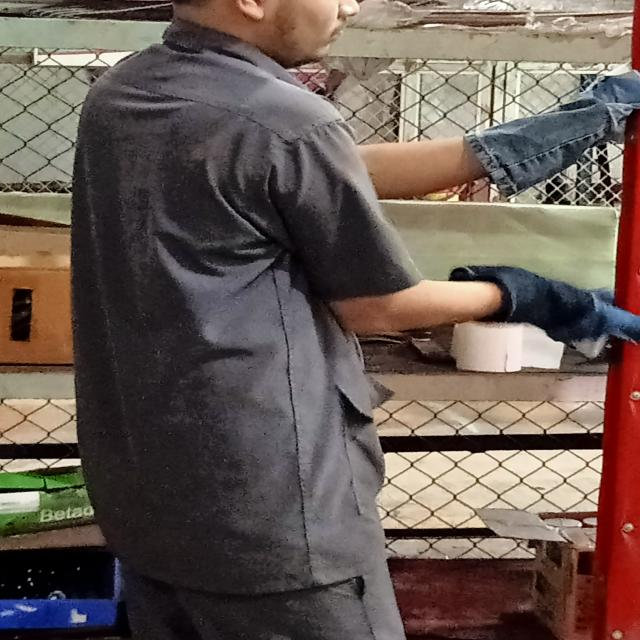Gloves-Detection: (457, 74, 639, 186), (455, 256, 640, 364)
